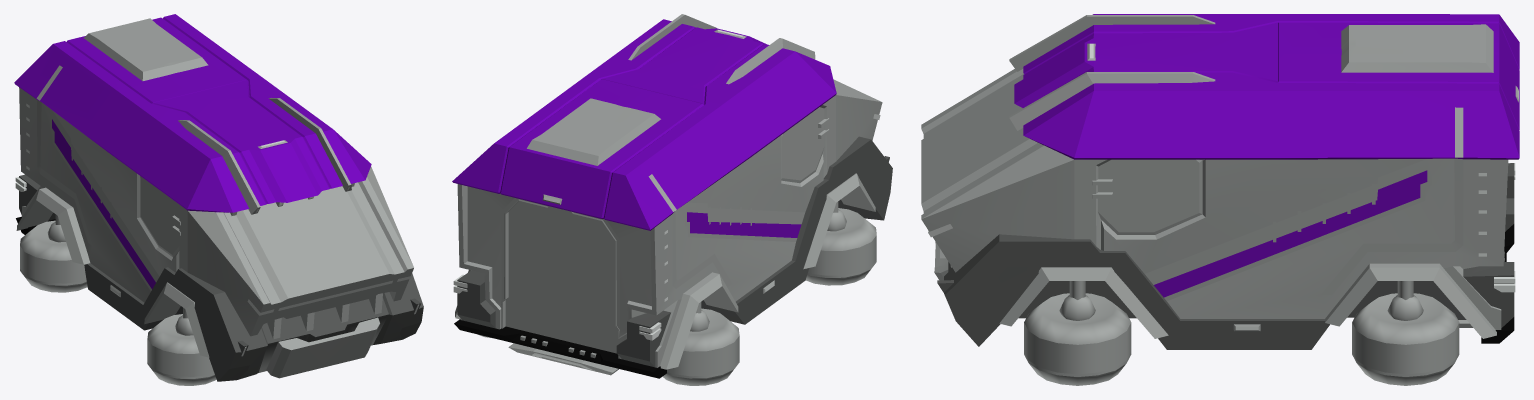
The picture shows the model from 3 angles, left to right: view 1: azimuth 30°, elevation 25°; view 2: azimuth 150°, elevation 25°; view 3: azimuth 270°, elevation 25°; orthographic projection. The views are drawn at different scales.
Parts seen in each view (by area): view 1: G:\FFXIV-MapTools\exports\x6t1\bg\ex5\01_xkt_x6\twn\x6t1\bgp (×4); view 2: G:\FFXIV-MapTools\exports\x6t1\bg\ex5\01_xkt_x6\twn\x6t1\bgp (×4); view 3: G:\FFXIV-MapTools\exports\x6t1\bg\ex5\01_xkt_x6\twn\x6t1\bgp (×4).
Part boxes in pixels (bbox=[...]): G:\FFXIV-MapTools\exports\x6t1\bg\ex5\01_xkt_x6\twn\x6t1\bgp (×4): bbox=[14, 14, 423, 385]; G:\FFXIV-MapTools\exports\x6t1\bg\ex5\01_xkt_x6\twn\x6t1\bgp (×4): bbox=[452, 14, 892, 385]; G:\FFXIV-MapTools\exports\x6t1\bg\ex5\01_xkt_x6\twn\x6t1\bgp (×4): bbox=[921, 14, 1519, 385].
Size of the model in its own units: 4.52 by 3.57 by 7.24.
